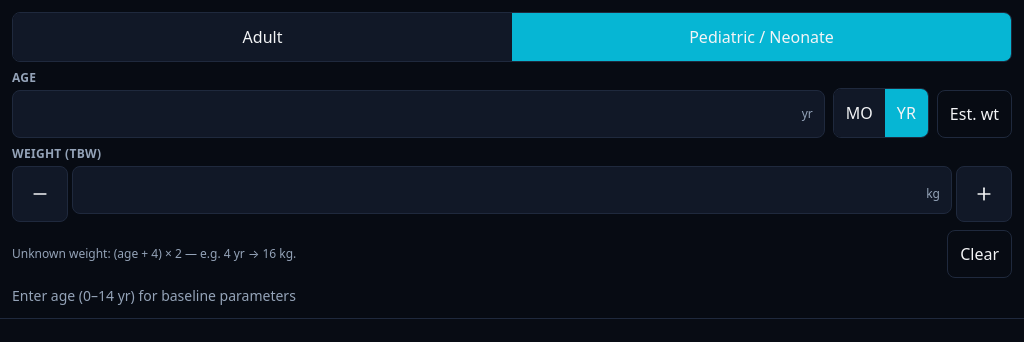
Test: BiometricBar pediatric weight estimation › auto-estimates weight when entering age and updates when age changes if not manually set
In the field named "Age": (418, 114) [12,90,825,138], type "4"
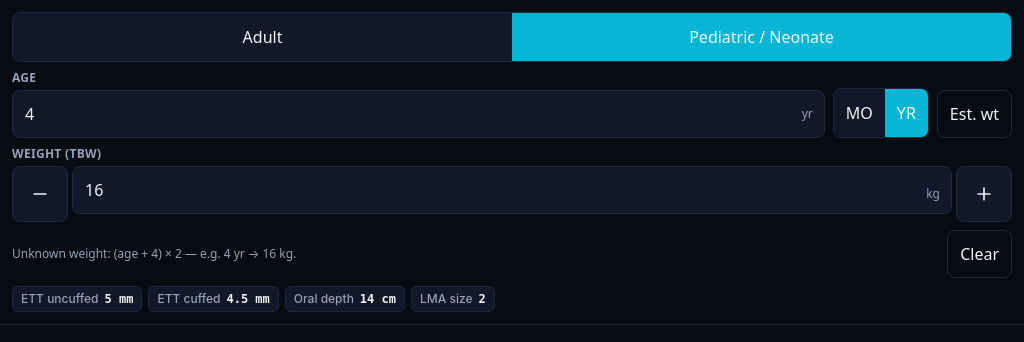
Now the field named "Weight (TBW)" holds "16", box [72,166,952,214]
Replace the text in the field named "Age" with "6": (418, 114) [12,90,825,138]
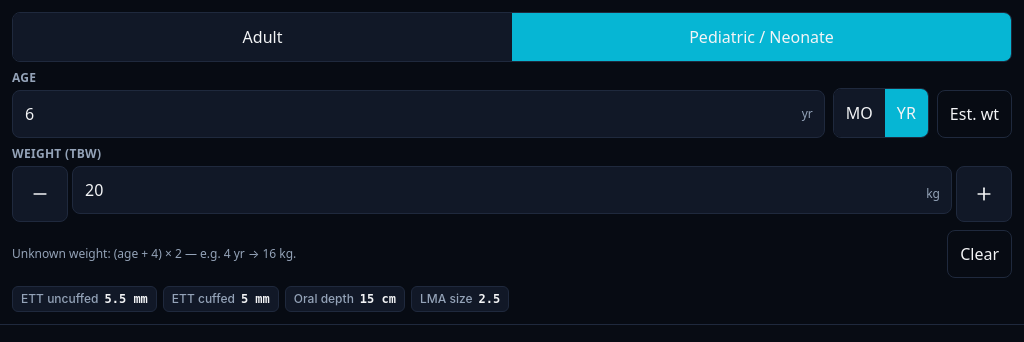
Now the field named "Weight (TBW)" holds "20", box [72,166,952,214]
